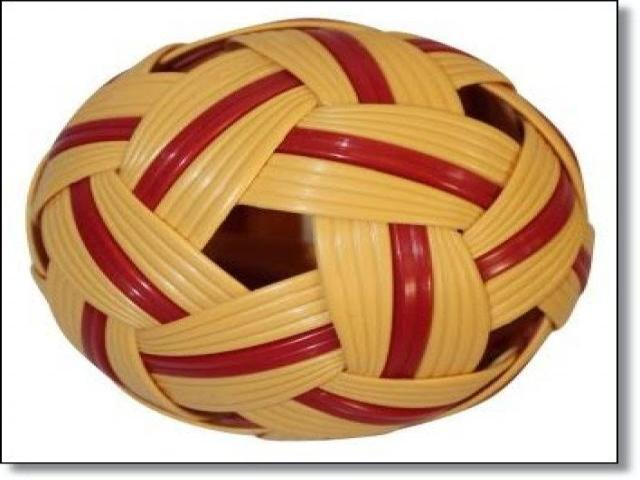round ball: (29, 20, 592, 438)
